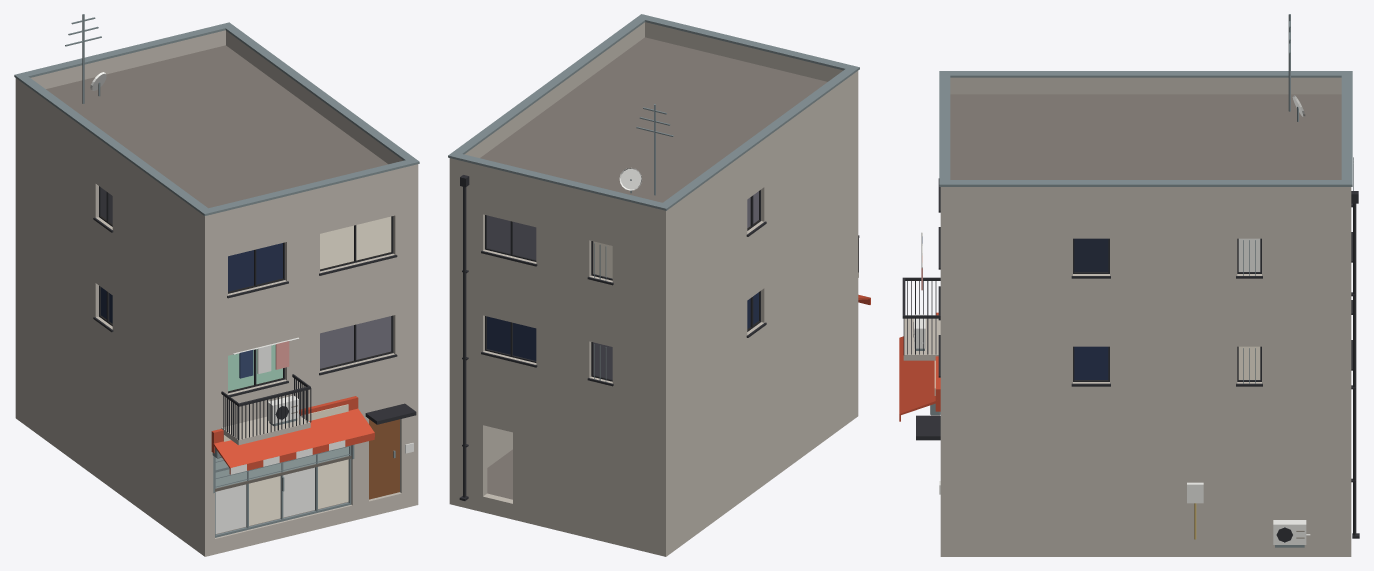
The model's file is tb_shop_house_3f_01_b.fbx.
3 renders of one model, left to right at view 1: azimuth 30°, elevation 25°; view 2: azimuth 150°, elevation 25°; view 3: azimuth 270°, elevation 25°, orthographic. The views are drawn at different scales.
Visible parts, largest first — view 1: tb_shop_house_3f_01_b; view 2: tb_shop_house_3f_01_b; view 3: tb_shop_house_3f_01_b.
Part boxes in pixels (<box>): tb_shop_house_3f_01_b: <box>14,14,419,556</box>; tb_shop_house_3f_01_b: <box>448,14,870,556</box>; tb_shop_house_3f_01_b: <box>899,14,1359,556</box>.
Size of what is drawn, in the model's own units: 7.01 by 12.1 by 11.2.
3 materials, 3 textured.
